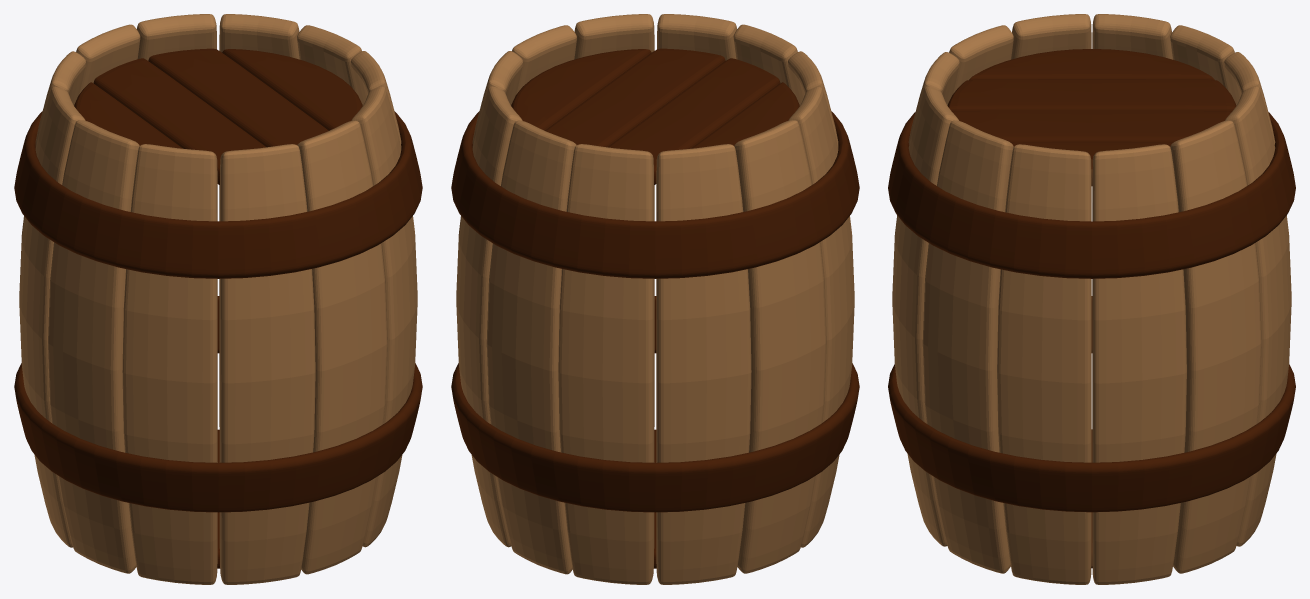
The model's file is barril.fbx.
The picture shows the model from 3 angles, left to right: view 1: azimuth 30°, elevation 25°; view 2: azimuth 150°, elevation 25°; view 3: azimuth 270°, elevation 25°; orthographic projection.
Visible parts, largest first — view 1: Circle.092, Circle.094, Circle.091, Circle.093; view 2: Circle.092, Circle.094, Circle.091, Circle.093; view 3: Circle.092, Circle.094, Circle.091, Circle.093.
Boxes of the visible parts, x1,y1,x2,y2 form: Circle.092: (19, 14, 417, 584); Circle.094: (14, 111, 422, 278); Circle.091: (74, 48, 362, 568); Circle.093: (14, 296, 422, 512); Circle.092: (456, 14, 854, 584); Circle.094: (451, 111, 859, 278); Circle.091: (511, 48, 799, 568); Circle.093: (451, 296, 859, 512); Circle.092: (892, 14, 1291, 584); Circle.094: (888, 112, 1295, 278); Circle.091: (947, 49, 1236, 568); Circle.093: (888, 296, 1295, 512).
Size of the model in its own units: 228 by 267 by 228.
